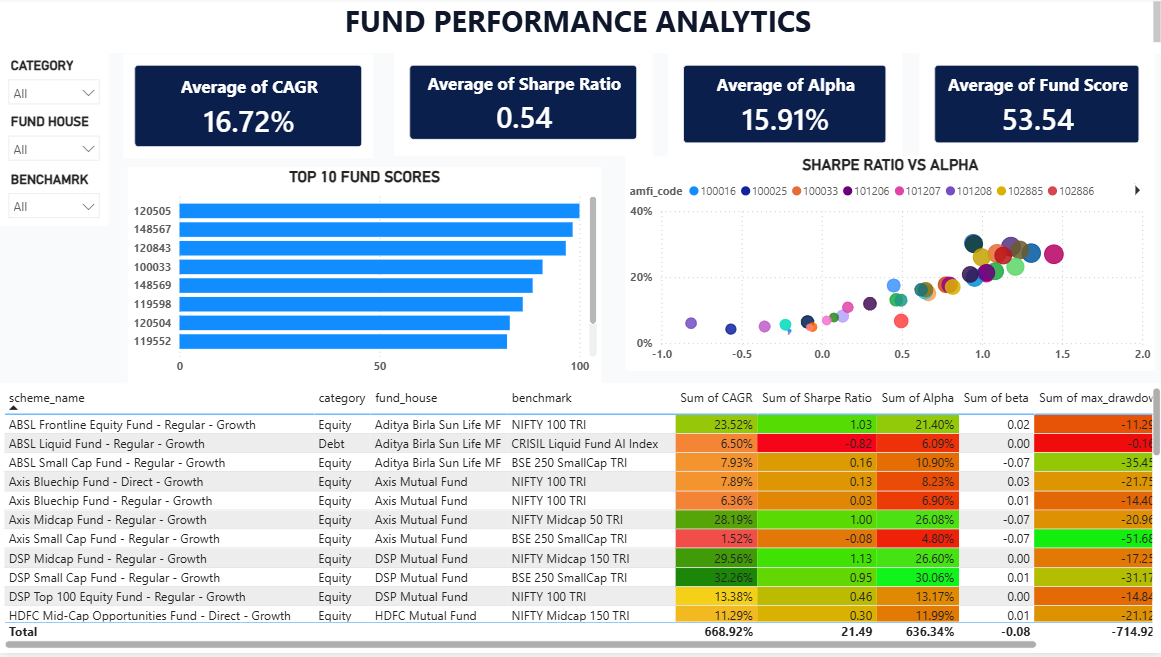

The dashboard page shown, as its layout file describes it:
{"tool":"powerbi","page":{"name":"Fund Performance","canvas":[1280,720],"ordinal":1},"visuals":[{"type":"textbox","box":[0,0,1280.3,61.7],"z":0},{"type":"slicer","fields":{"Values":["01_fund_master.category"]},"box":[0,61.7,120.8,64.5],"z":1000},{"type":"slicer","fields":{"Values":["01_fund_master.fund_house"]},"box":[0,123.5,120.8,63.1],"z":2000},{"type":"slicer","fields":{"Values":["01_fund_master.benchmark"]},"box":[0,186.6,120.8,64.5],"z":3000},{"type":"cardVisual","fields":{"Data":["Avg(fund_scorecard.cagr)"]},"box":[131.7,57.6,284,124.9],"z":4000},{"type":"cardVisual","fields":{"Data":["Avg(fund_scorecard.sharpe_ratio)"]},"box":[433.2,57.6,284,116.6],"z":5000},{"type":"cardVisual","fields":{"Data":["Avg(fund_scorecard.alpha)"]},"box":[734.6,57.6,258,120.8],"z":6000},{"type":"cardVisual","fields":{"Data":["Avg(fund_scorecard.fund_score)"]},"box":[1010,57.6,259.3,120.8],"z":7000},{"type":"scatterChart","title":"SHARPE RATIO VS ALPHA","fields":{"X":["fund_scorecard.Sharpe Ratio"],"Y":["fund_scorecard.Alpha"],"Size":["Sum(fund_scorecard.Fund Score)"],"Series":["fund_scorecard.amfi_code"]},"box":[687.5,174.3,581.8,236],"z":8000},{"type":"clusteredBarChart","title":"TOP 10 FUND SCORES","fields":{"Category":["fund_scorecard.amfi_code"],"Y":["Sum(fund_scorecard.Fund Score)"]},"box":[141.3,186.6,520.1,237.4],"z":9000},{"type":"tableEx","fields":{"Values":["01_fund_master.scheme_name","01_fund_master.category","01_fund_master.fund_house","01_fund_master.benchmark","Sum(fund_scorecard.CAGR)","Sum(fund_scorecard.Sharpe Ratio)","Sum(fund_scorecard.Alpha)","Sum(fund_scorecard.beta)","Sum(fund_scorecard.max_drawdown)","Sum(fund_scorecard.Fund Score)"]},"box":[0,424,1280.3,296.4],"z":10000}]}

Visuals, with their boxes in screenshot pixels (x1, y1, x2, y2), scaled from the page's 1280x720 canvas onto the 1161x657 screenshot:
textbox: bbox(0, 0, 1160, 56)
slicer - 01_fund_master.category: bbox(0, 56, 110, 115)
slicer - 01_fund_master.fund_house: bbox(0, 113, 110, 170)
slicer - 01_fund_master.benchmark: bbox(0, 170, 110, 229)
cardVisual - Avg(fund_scorecard.cagr): bbox(119, 53, 377, 167)
cardVisual - Avg(fund_scorecard.sharpe_ratio): bbox(393, 53, 651, 159)
cardVisual - Avg(fund_scorecard.alpha): bbox(666, 53, 900, 163)
cardVisual - Avg(fund_scorecard.fund_score): bbox(916, 53, 1151, 163)
"SHARPE RATIO VS ALPHA" scatterChart: bbox(624, 159, 1151, 374)
"TOP 10 FUND SCORES" clusteredBarChart: bbox(128, 170, 600, 387)
tableEx - 01_fund_master.scheme_name x 01_fund_master.category: bbox(0, 387, 1160, 656)
